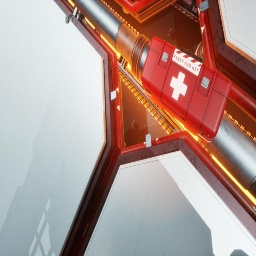FirstAidBox ,: (141, 36, 232, 143)
